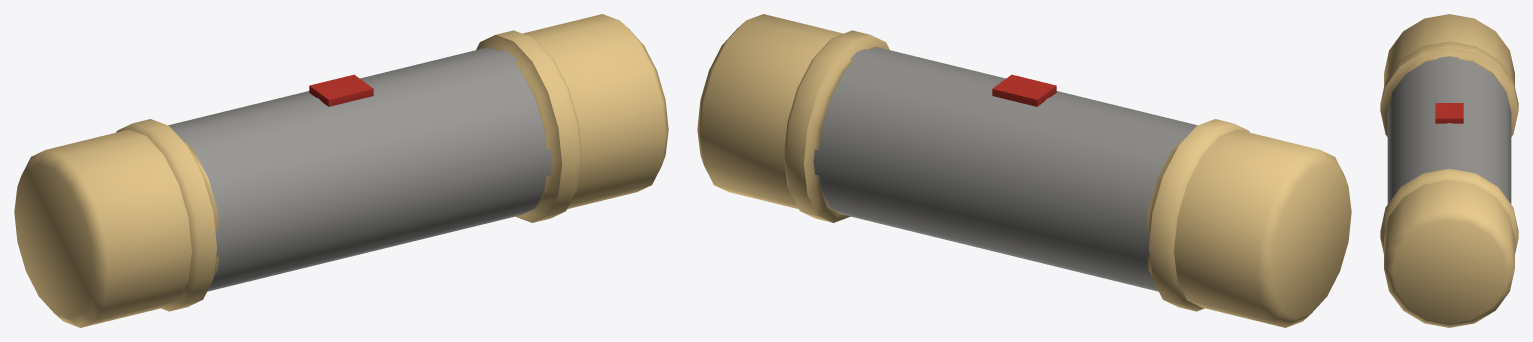
The model's file is ix_fuse.gltf.
3 renders of one model, left to right at view 1: azimuth 30°, elevation 25°; view 2: azimuth 150°, elevation 25°; view 3: azimuth 270°, elevation 25°, orthographic. The views are drawn at different scales.
Visible parts, largest first — view 1: IX_Fuse_Body, IX_Fuse_Cap0, IX_Fuse_Cap1, IX_Fuse_Indicator; view 2: IX_Fuse_Body, IX_Fuse_Cap0, IX_Fuse_Cap1, IX_Fuse_Indicator; view 3: IX_Fuse_Cap1, IX_Fuse_Body, IX_Fuse_Cap0, IX_Fuse_Indicator.
Part boxes in pixels (left/top/right/bottom): IX_Fuse_Body: left=168, top=47, right=552, bottom=291; IX_Fuse_Cap0: left=14, top=119, right=219, bottom=327; IX_Fuse_Cap1: left=476, top=14, right=668, bottom=222; IX_Fuse_Indicator: left=309, top=74, right=373, bottom=106; IX_Fuse_Body: left=813, top=47, right=1197, bottom=291; IX_Fuse_Cap0: left=1146, top=119, right=1351, bottom=327; IX_Fuse_Cap1: left=697, top=14, right=889, bottom=222; IX_Fuse_Indicator: left=992, top=74, right=1056, bottom=106; IX_Fuse_Cap1: left=1380, top=168, right=1518, bottom=327; IX_Fuse_Body: left=1387, top=56, right=1511, bottom=203; IX_Fuse_Cap0: left=1380, top=14, right=1518, bottom=136; IX_Fuse_Indicator: left=1435, top=103, right=1463, bottom=123.
Bounding box in the file's own units: 0.051 × 0.0148 × 0.0148.
